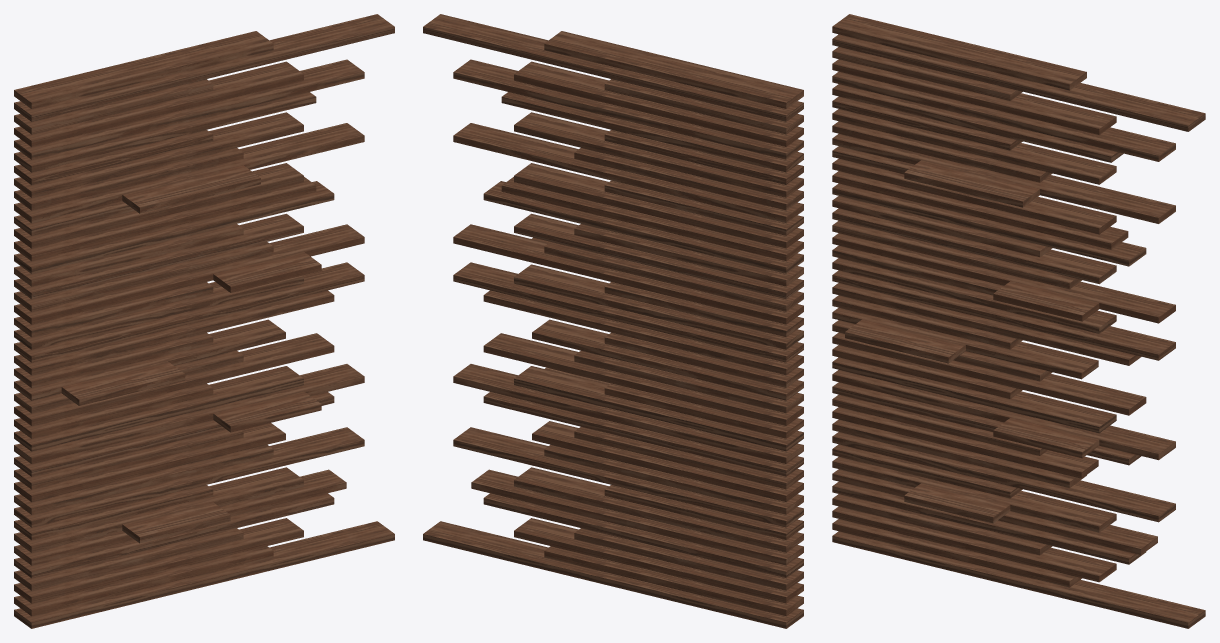
The model's file is dlx_-_wall_decoration_shelf_wood.glb.
3 views of the same model, side by side, from view 1: azimuth 30°, elevation 25°; view 2: azimuth 150°, elevation 25°; view 3: azimuth 330°, elevation 25° (orthographic). The views are drawn at different scales.
Parts seen in each view (by area): view 1: dlX - Shelf (wood); view 2: dlX - Shelf (wood); view 3: dlX - Shelf (wood).
Boxes of the visible parts, bbox=[...] form: dlX - Shelf (wood): bbox=[14, 14, 394, 628]; dlX - Shelf (wood): bbox=[423, 14, 803, 628]; dlX - Shelf (wood): bbox=[832, 14, 1205, 628].
Bounding box in the file's own units: 1.2 × 1.66 × 0.2.
Materials: 1 (1 with a texture image).
